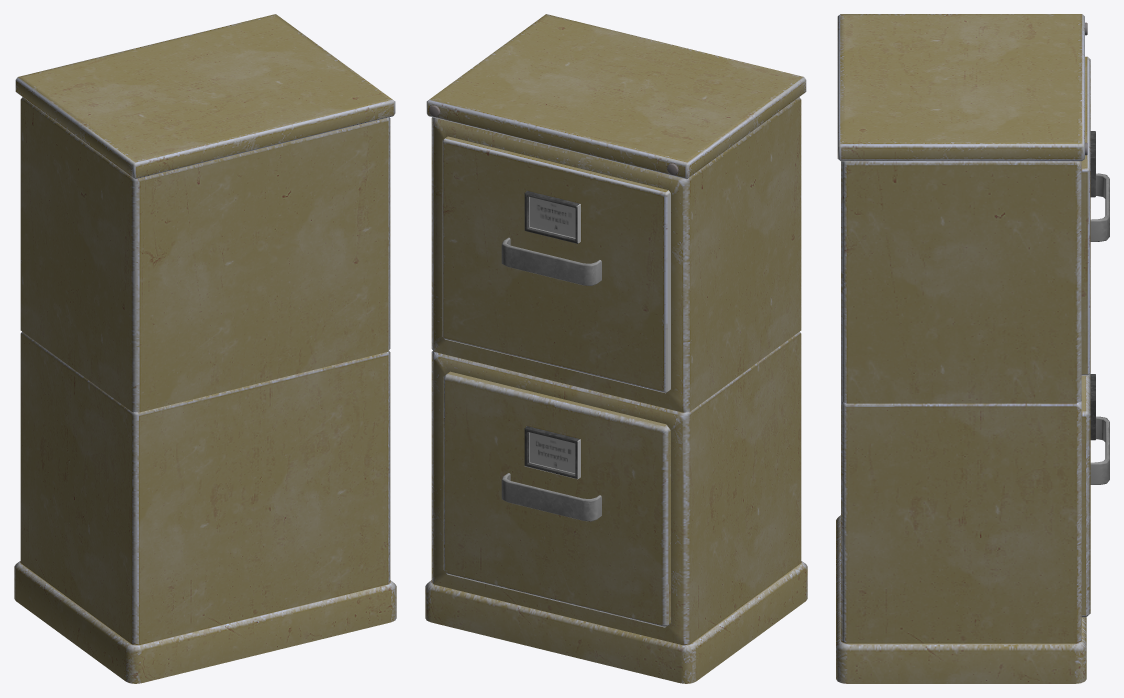
Rendered from SM_Filing_Cabinet.fbx.
3 renders of one model, left to right at view 1: azimuth 30°, elevation 25°; view 2: azimuth 150°, elevation 25°; view 3: azimuth 270°, elevation 25°, orthographic. The views are drawn at different scales.
Parts seen in each view (by area): view 1: SM_Filing_Cabinet_LOD0; view 2: SM_Filing_Cabinet_LOD0; view 3: SM_Filing_Cabinet_LOD0.
Part boxes in pixels (x1,y1,x2,y2): SM_Filing_Cabinet_LOD0: (14, 14, 396, 683); SM_Filing_Cabinet_LOD0: (425, 14, 807, 683); SM_Filing_Cabinet_LOD0: (836, 14, 1109, 683).
Size of the model in its own units: 47.93 by 40.87 by 88.42.
Materials: 1 (1 with a texture image).
